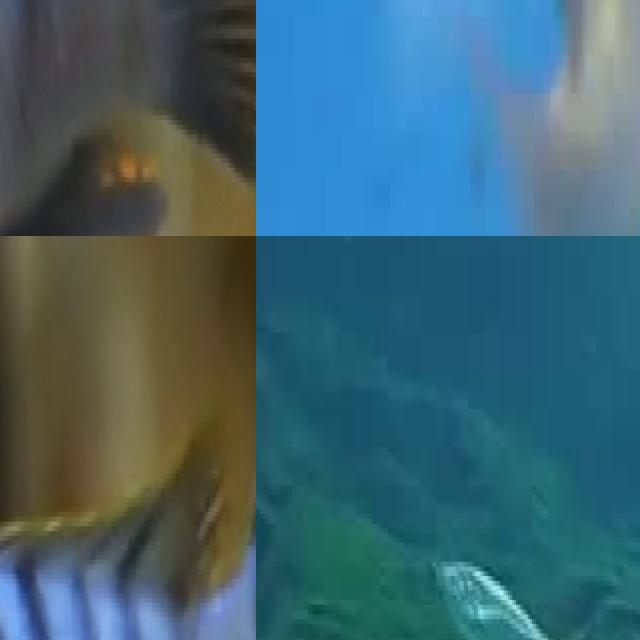fish: (0, 263, 256, 640), (0, 0, 256, 236)
